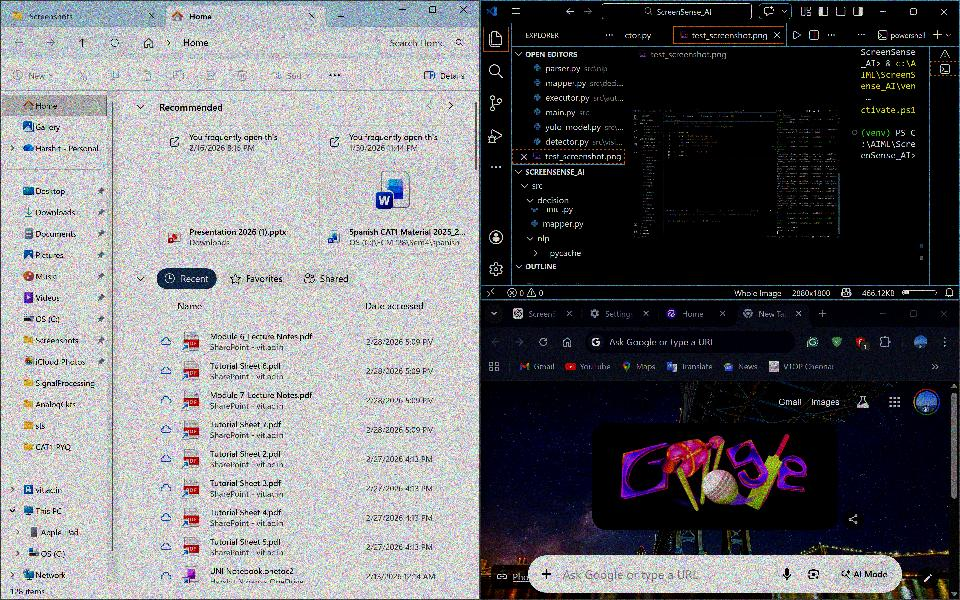close_button: (931, 304, 958, 324), (454, 2, 476, 21), (935, 1, 954, 21)
maximize_button: (420, 2, 447, 22), (905, 303, 924, 323), (903, 2, 924, 20)
minimize_button: (872, 303, 895, 325), (874, 2, 895, 21), (392, 2, 412, 19)
